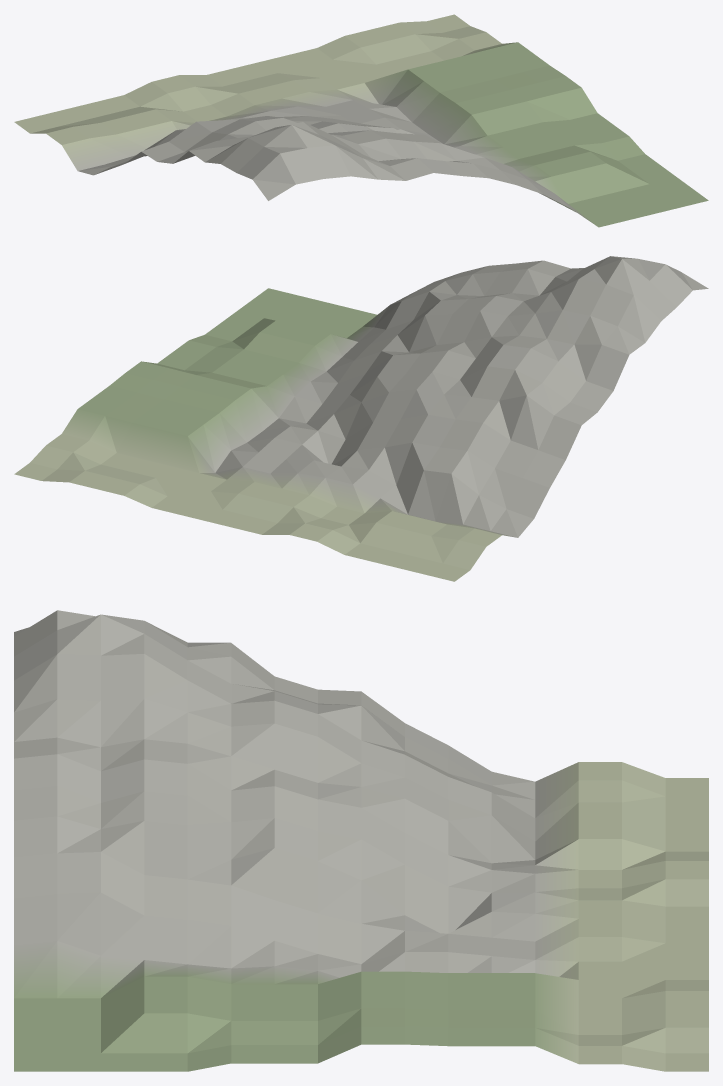
3 renders of one model, top to bottom at view 1: azimuth 30°, elevation 25°; view 2: azimuth 150°, elevation 25°; view 3: azimuth 270°, elevation 25°, orthographic. The views are drawn at different scales.
Bounding box in the file's own units: 32 × 10.98 × 32.
